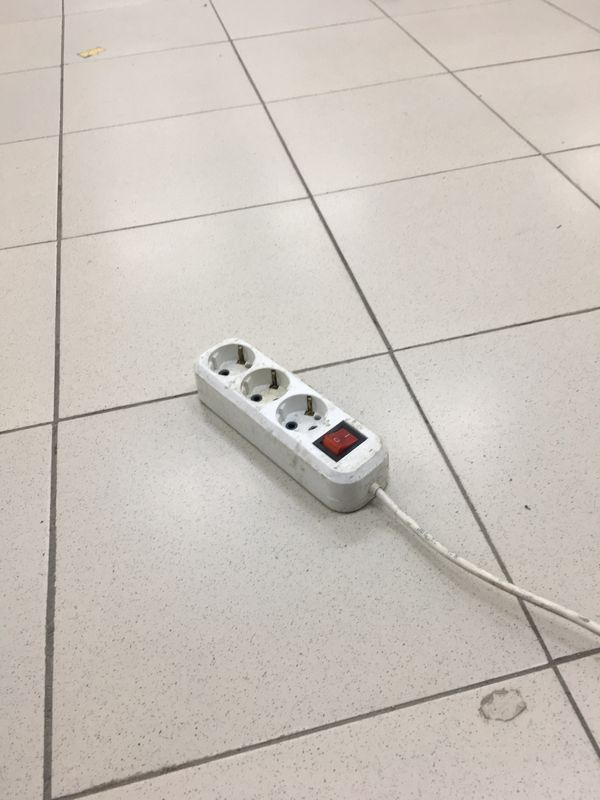socket: (187, 332, 407, 523)
